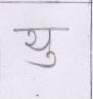u_matra: (28, 52, 59, 69)
